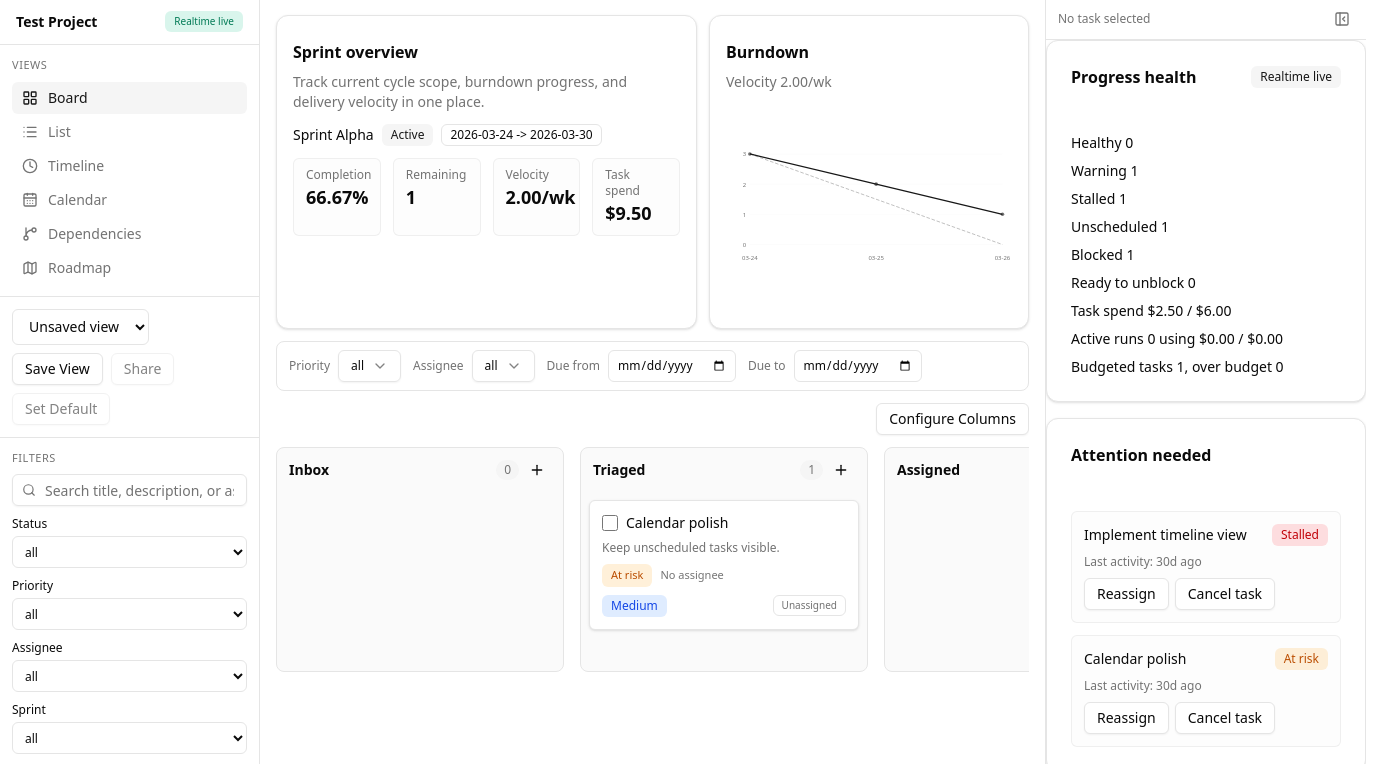
Test case: ProjectTaskWorkspace › lets the user collapse and expand the context rail without losing workspace state
The width and height of the screenshot is (1378, 764).
Click the button titled "Hide Details": [1342, 19] box left=1330, top=7, right=1354, bottom=31
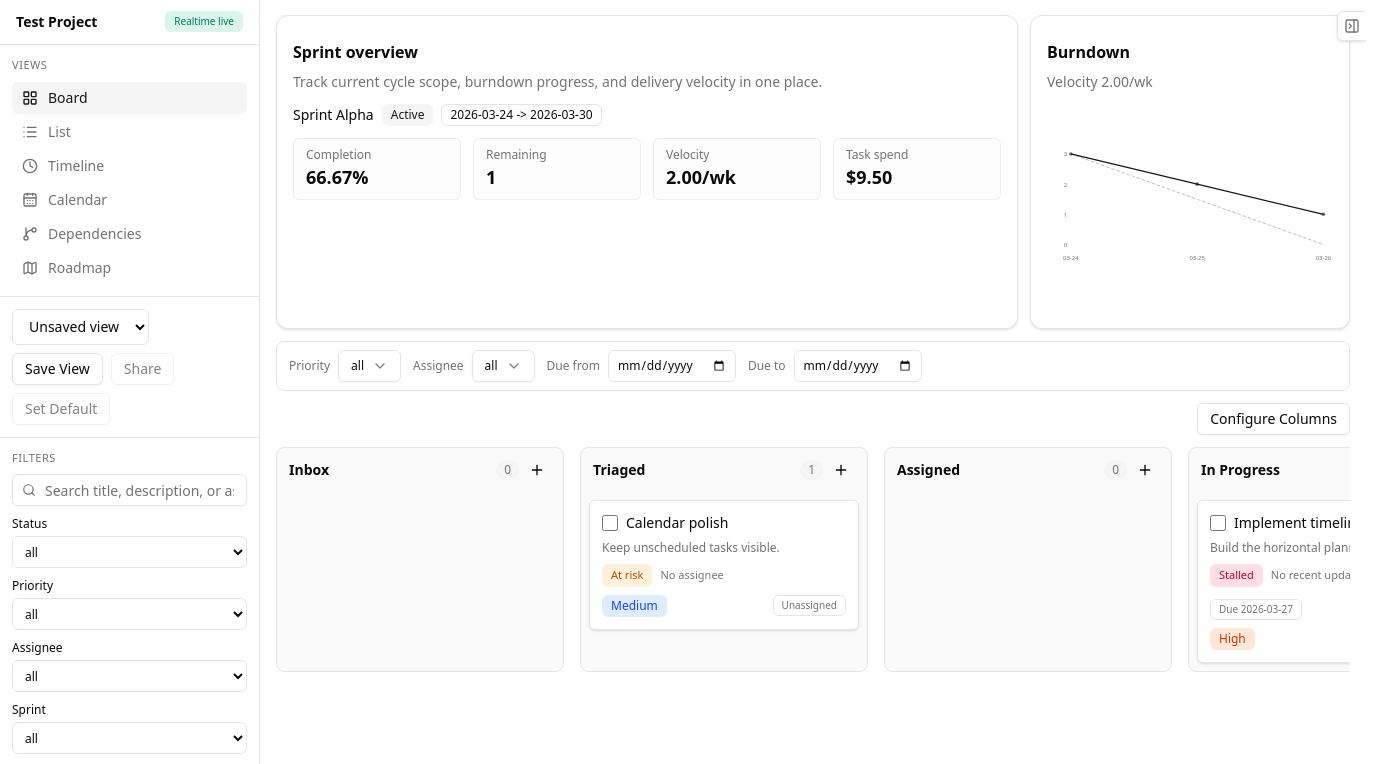
Click the button titled "Show Details": [1352, 26] box left=1337, top=11, right=1366, bottom=41
(page scrolled)
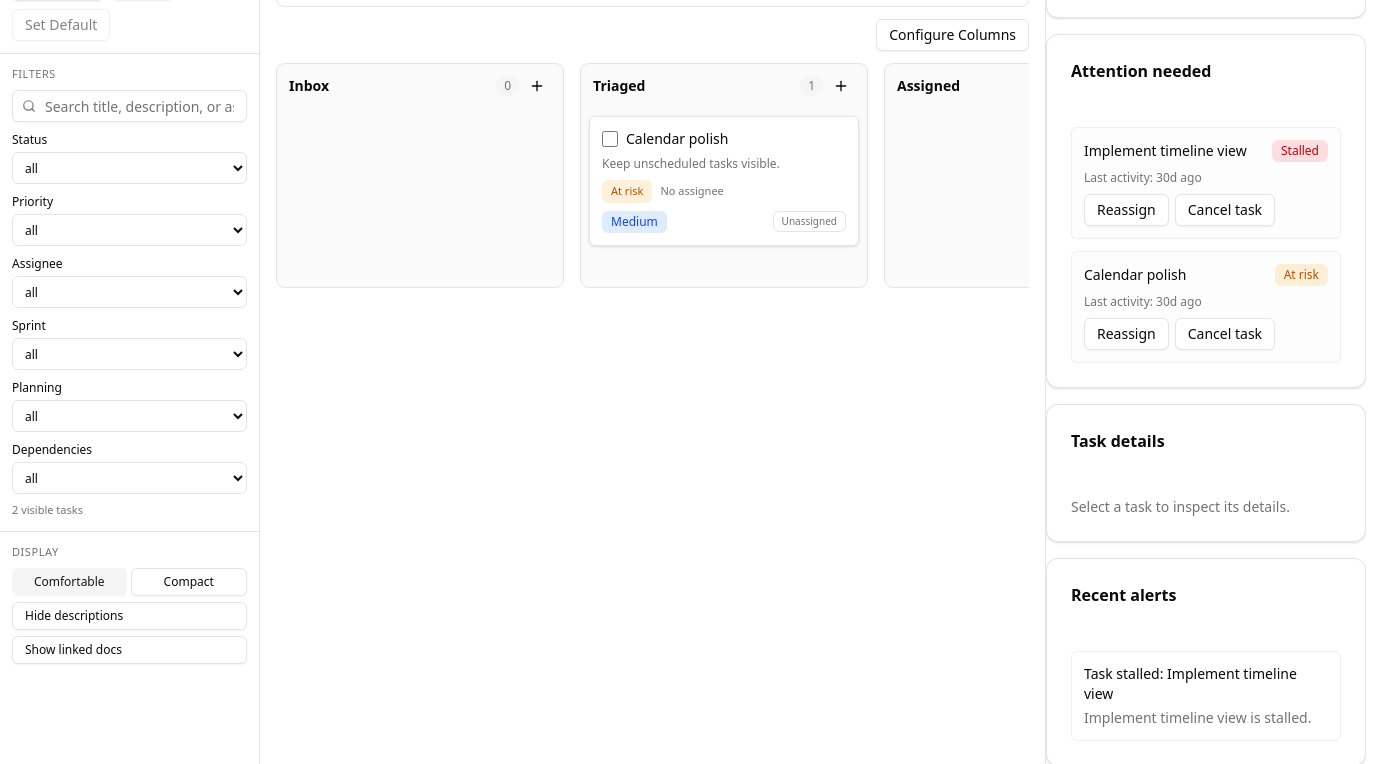
Now the text "Task details" is shown, box left=1071, top=430, right=1165, bottom=452
